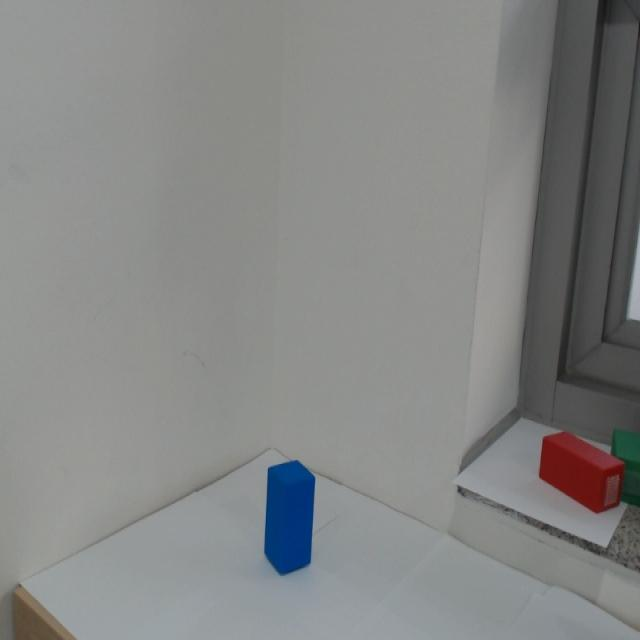cube: (244, 443, 337, 594)
